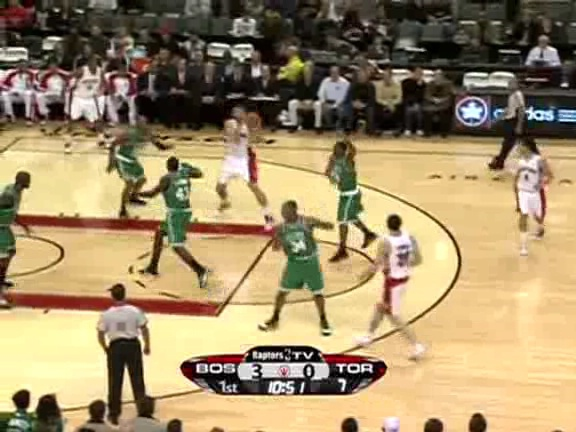person: (331, 149, 365, 230), (330, 149, 364, 230), (332, 149, 366, 230), (331, 148, 365, 229), (331, 150, 365, 231)
target_negative: (119, 65, 475, 370), (311, 252, 569, 364), (502, 44, 572, 278), (177, 376, 406, 412), (242, 254, 385, 290), (156, 353, 308, 383)
